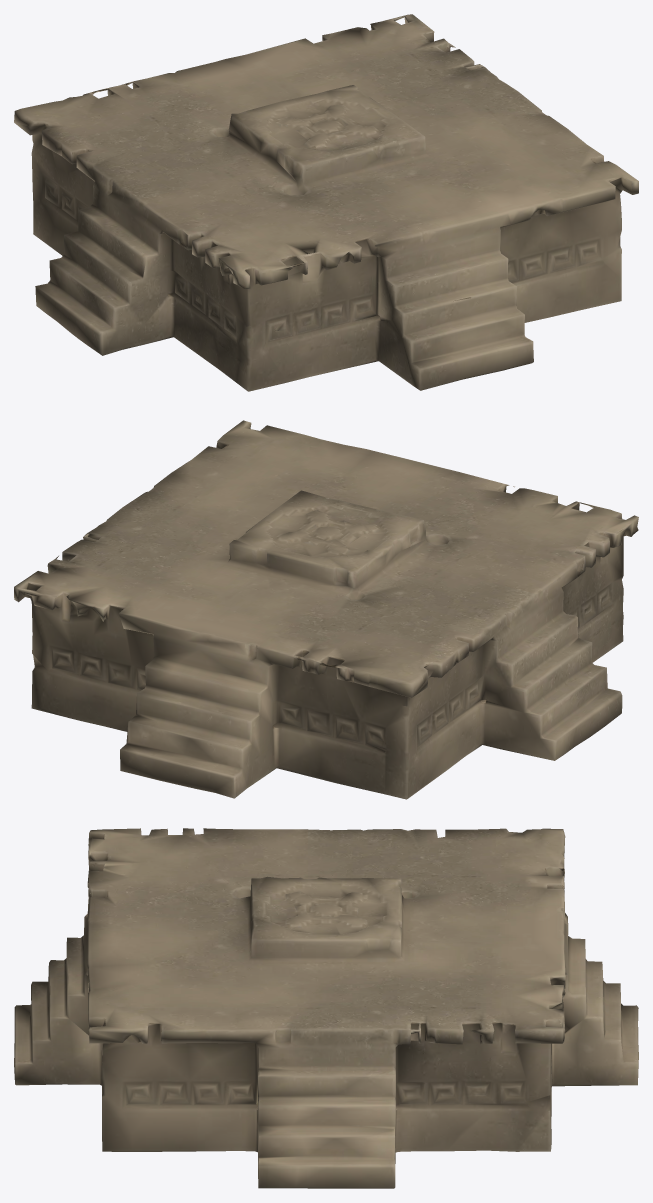
File: altar-cantera.glb
3 renders of one model, top to bottom at view 1: azimuth 30°, elevation 25°; view 2: azimuth 150°, elevation 25°; view 3: azimuth 270°, elevation 25°, orthographic. The views are drawn at different scales.
Visible parts, largest first — view 1: altar; view 2: altar; view 3: altar.
Boxes of the visible parts, <box> form: altar: <box>14,14,638,391</box>; altar: <box>14,420,638,799</box>; altar: <box>14,828,638,1188</box>.
Size of the model in its own units: 1 by 0.2651 by 1.
Materials: 1 (1 with a texture image).
